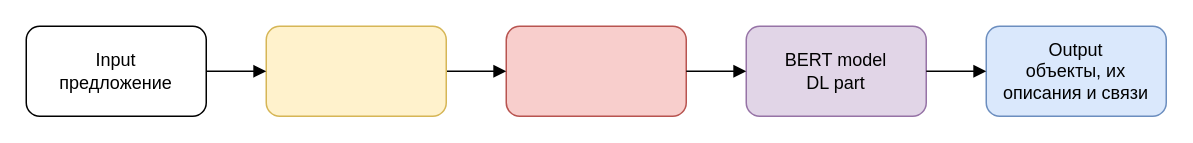
This 1193x143 diagram has some shape labels left out. Each missing label, with the centre of its shape:
"POS-разметка ML part" goes at [595,70].
"Предобработка данных" goes at [355,70].
